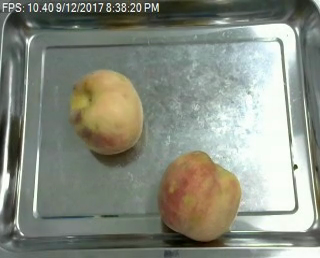Peach: (157, 150, 241, 242), (69, 68, 144, 155)
